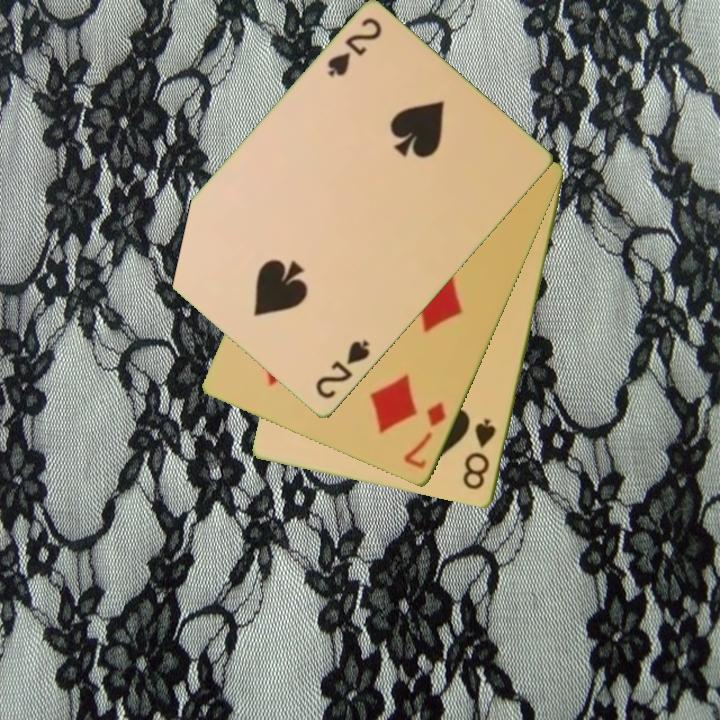2s: (323, 14, 385, 81), (312, 336, 373, 403)
7d: (400, 399, 450, 473)
8s: (459, 415, 499, 493)
